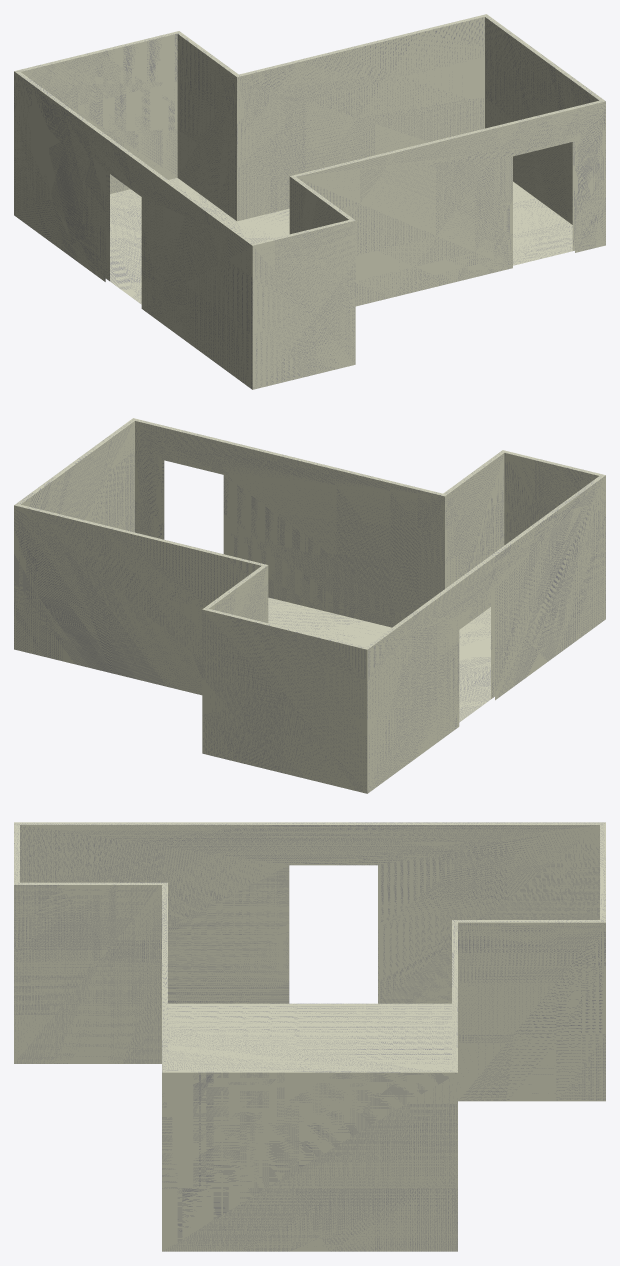
The model's file is mijsp6wp.dae.
3 views of the same model, one above another, from view 1: azimuth 30°, elevation 25°; view 2: azimuth 150°, elevation 25°; view 3: azimuth 270°, elevation 25° (orthographic). The views are drawn at different scales.
Visible parts, largest first — view 1: SketchUp; view 2: SketchUp; view 3: SketchUp.
Part boxes in pixels (<box>): SketchUp: <box>14,14,605,389</box>; SketchUp: <box>14,418,605,793</box>; SketchUp: <box>14,822,605,1251</box>.
Size of the model in its own units: 240 by 240 by 80.
